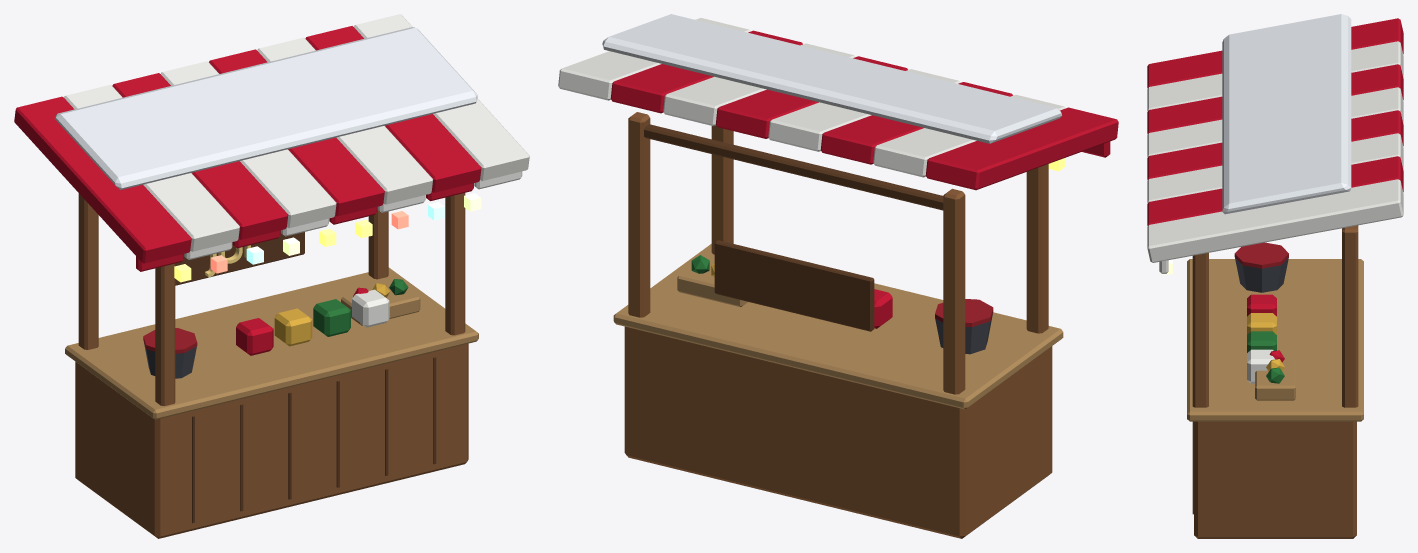
The model's file is market_stall.glb.
3 renders of one model, left to right at view 1: azimuth 30°, elevation 25°; view 2: azimuth 150°, elevation 25°; view 3: azimuth 270°, elevation 25°, orthographic. The views are drawn at different scales.
Parts seen in each view (by area): view 1: market_stall; view 2: market_stall; view 3: market_stall.
Part boxes in pixels (x1,y1,x2,y2): market_stall: (14,14,529,538); market_stall: (558,14,1118,538); market_stall: (1147,14,1403,538).
Size of the model in its own units: 3.2 by 2.98 by 1.88.
